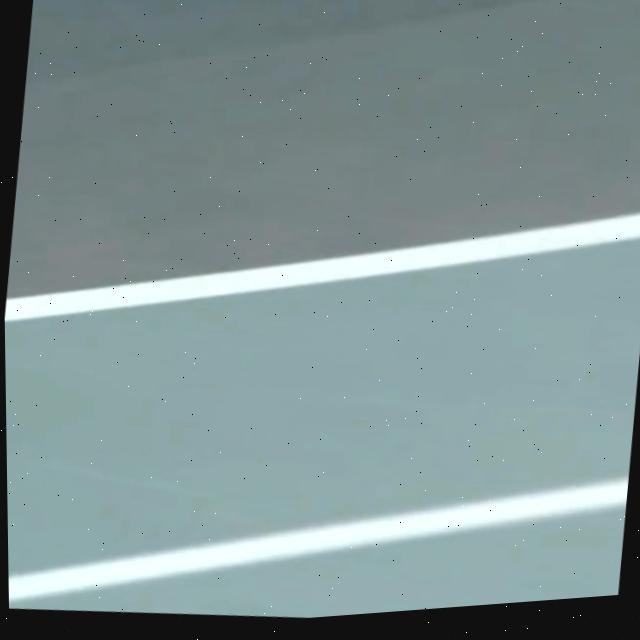left: (4, 213, 640, 321)
